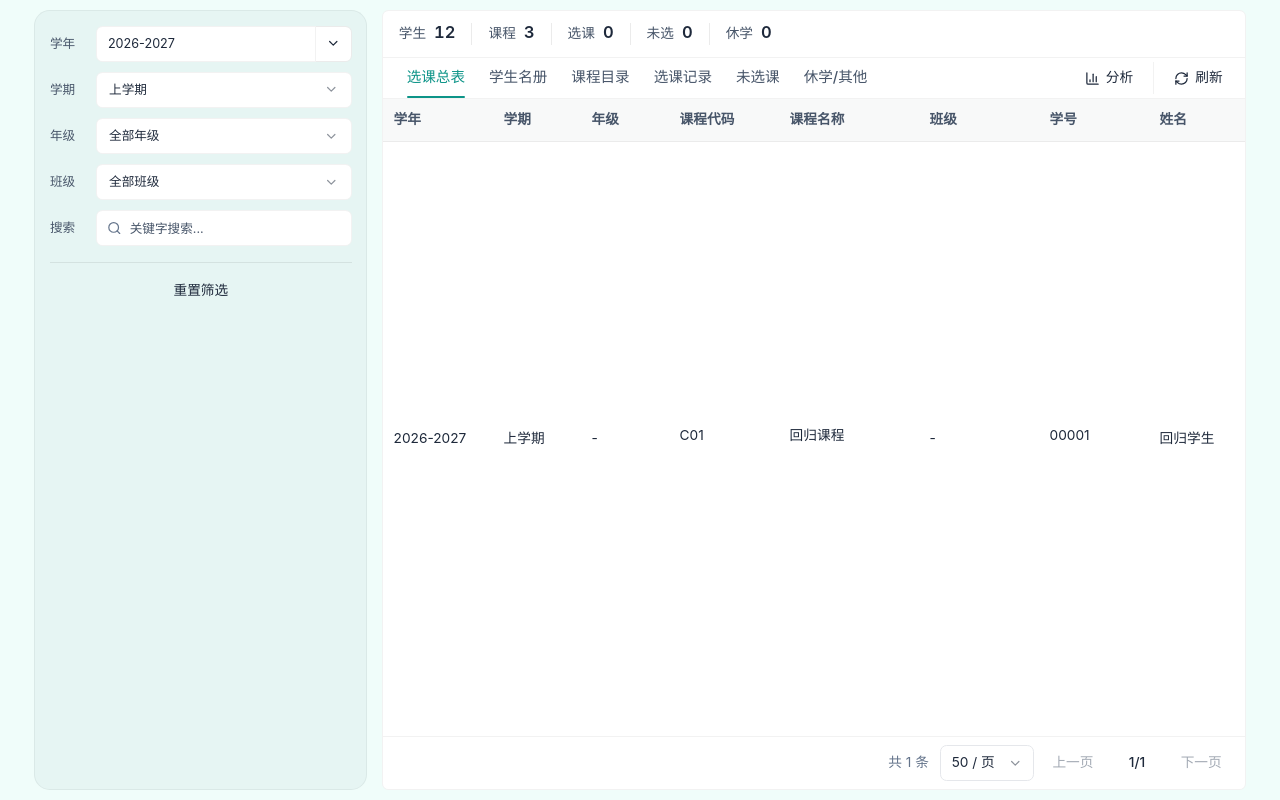
XBK page load failures › a later list failure hides old rows but preserves successful summary counts
Expected: the text "回归学生" is shown, [1149,142,1244,736]
Click the button "刷新" at [1198, 78], box [1164,62,1232,94]
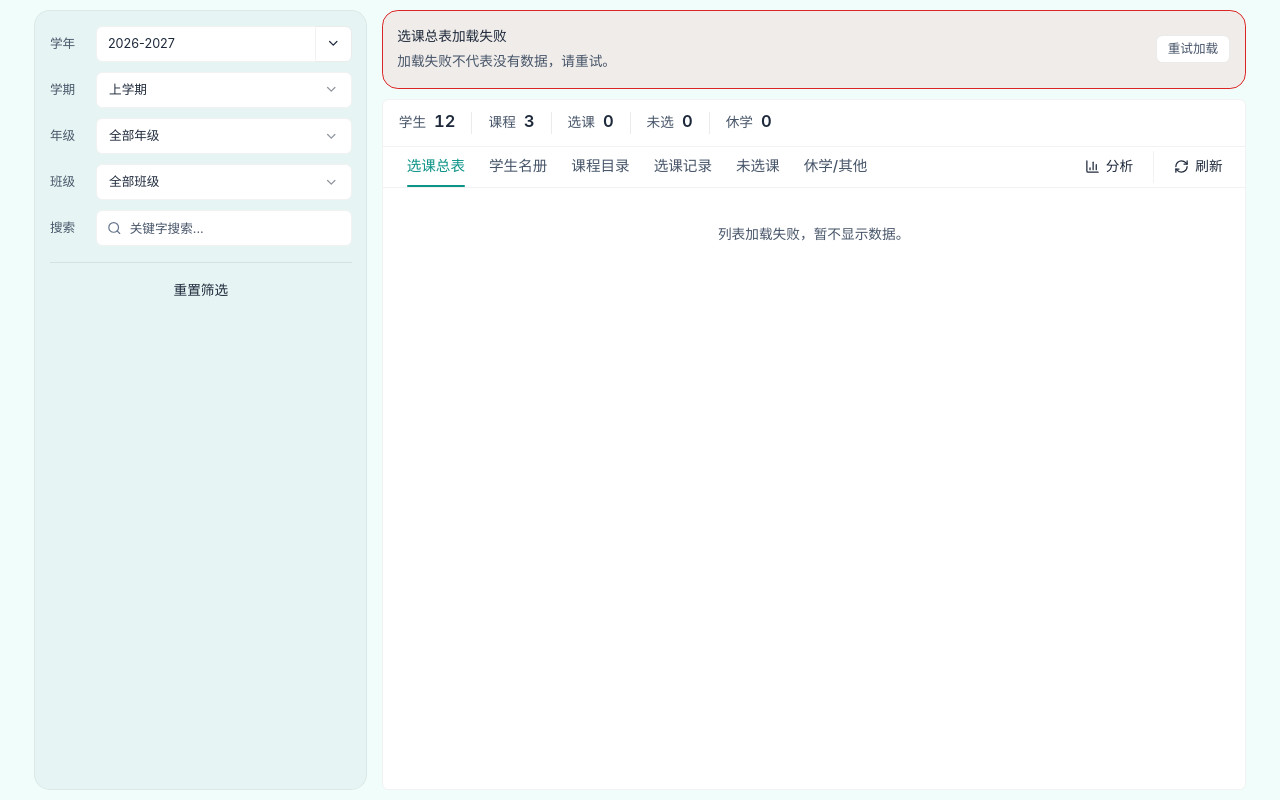
Result: the text "列表加载失败，暂不显示数据。" is shown at [718,226,909,242]
Result: the text "回归学生" is gone
